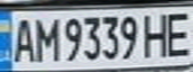3: (81, 12, 103, 62), (100, 12, 121, 61)
9: (118, 11, 142, 61), (60, 14, 84, 62)
A: (6, 15, 36, 63)
E: (160, 8, 193, 57)
H: (139, 9, 172, 58)
M: (30, 14, 60, 63)
